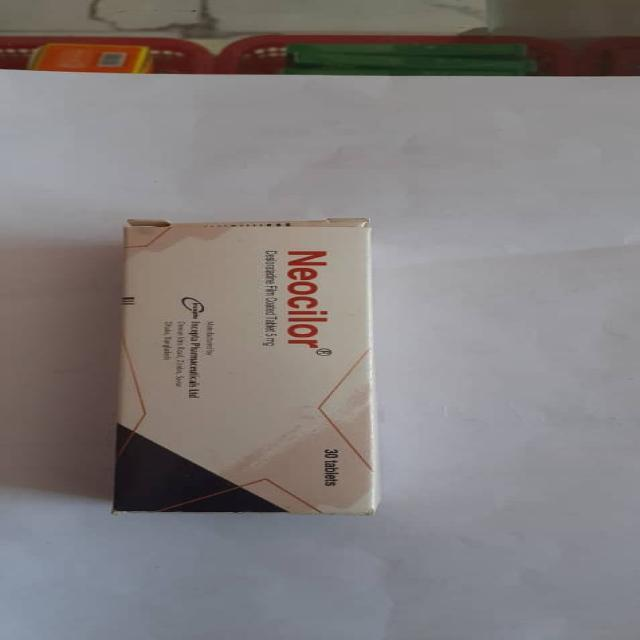drug-name: (285, 247, 327, 349)
